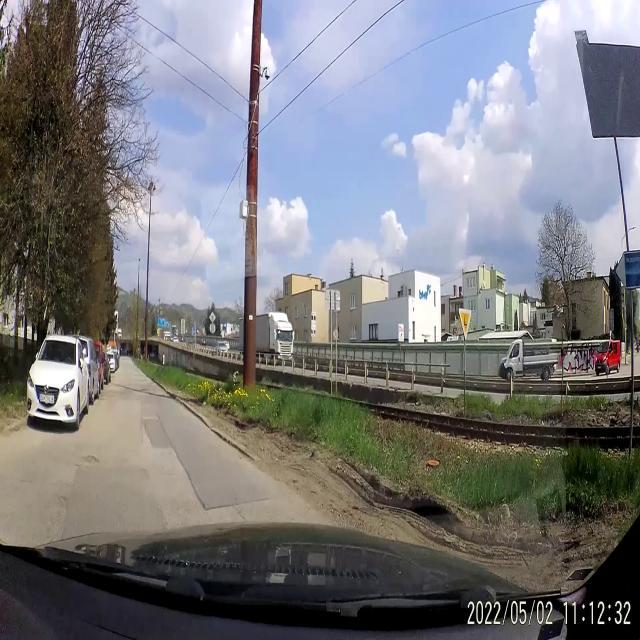Pothole: (76, 448, 101, 471)
